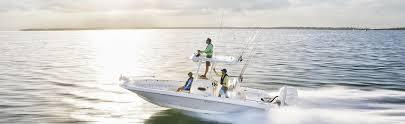fishing boat: (113, 40, 301, 118)
